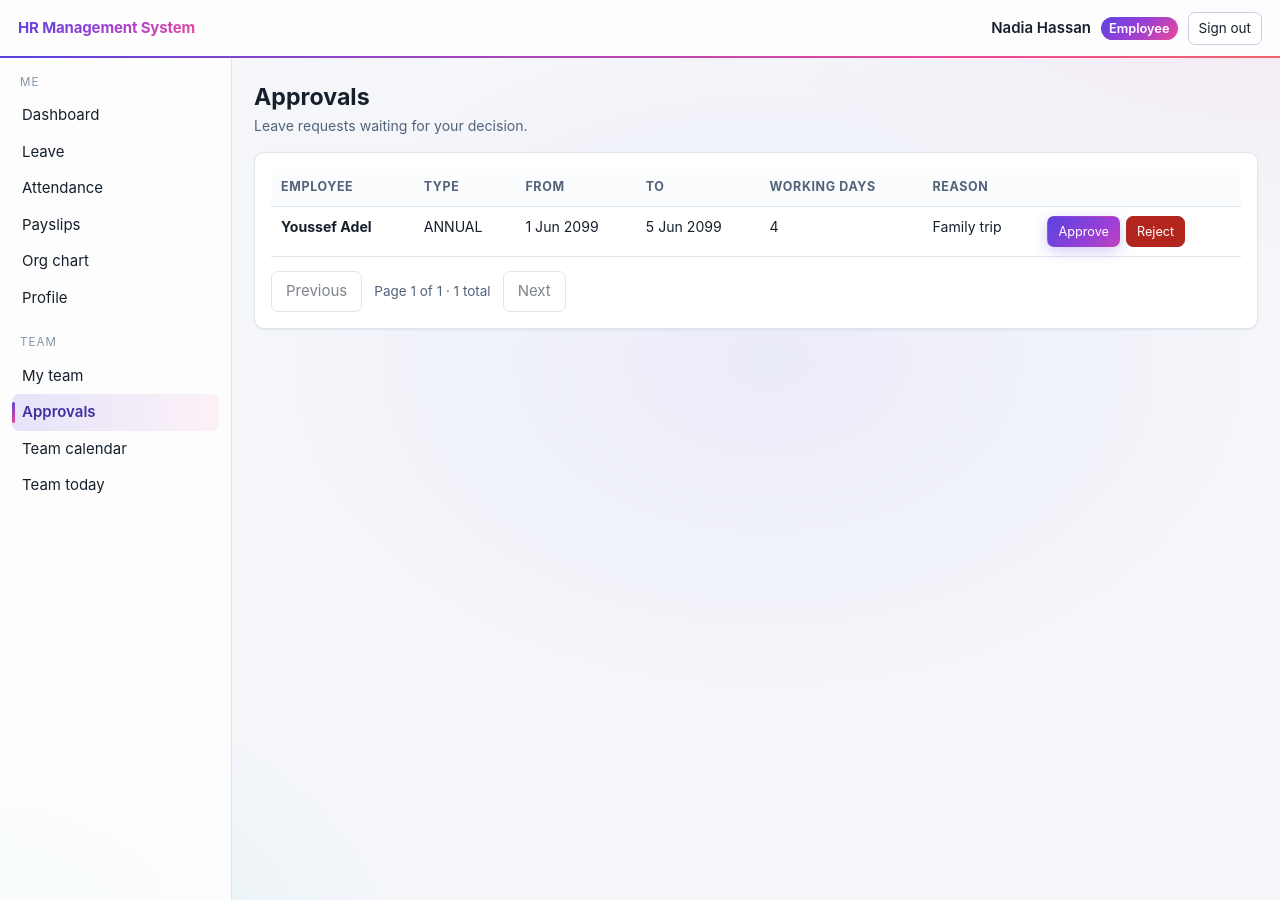
Test: approvals › refuses to reject without a note and posts nothing
Click the button with aria-label "reject youssef adel": point(1156, 231) [1126,216,1185,247]
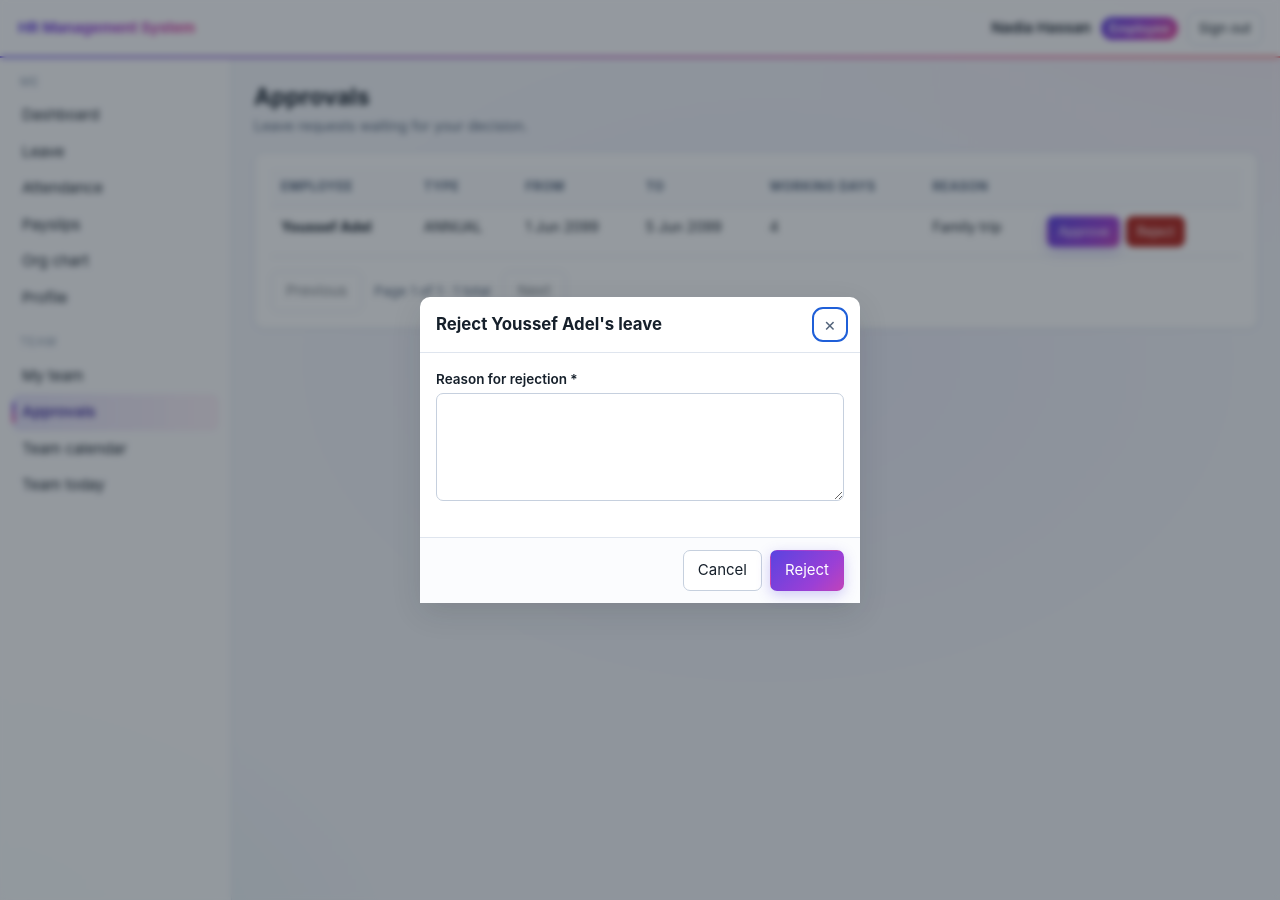
Click the button "Reject": point(807, 571) [770,550,844,591]
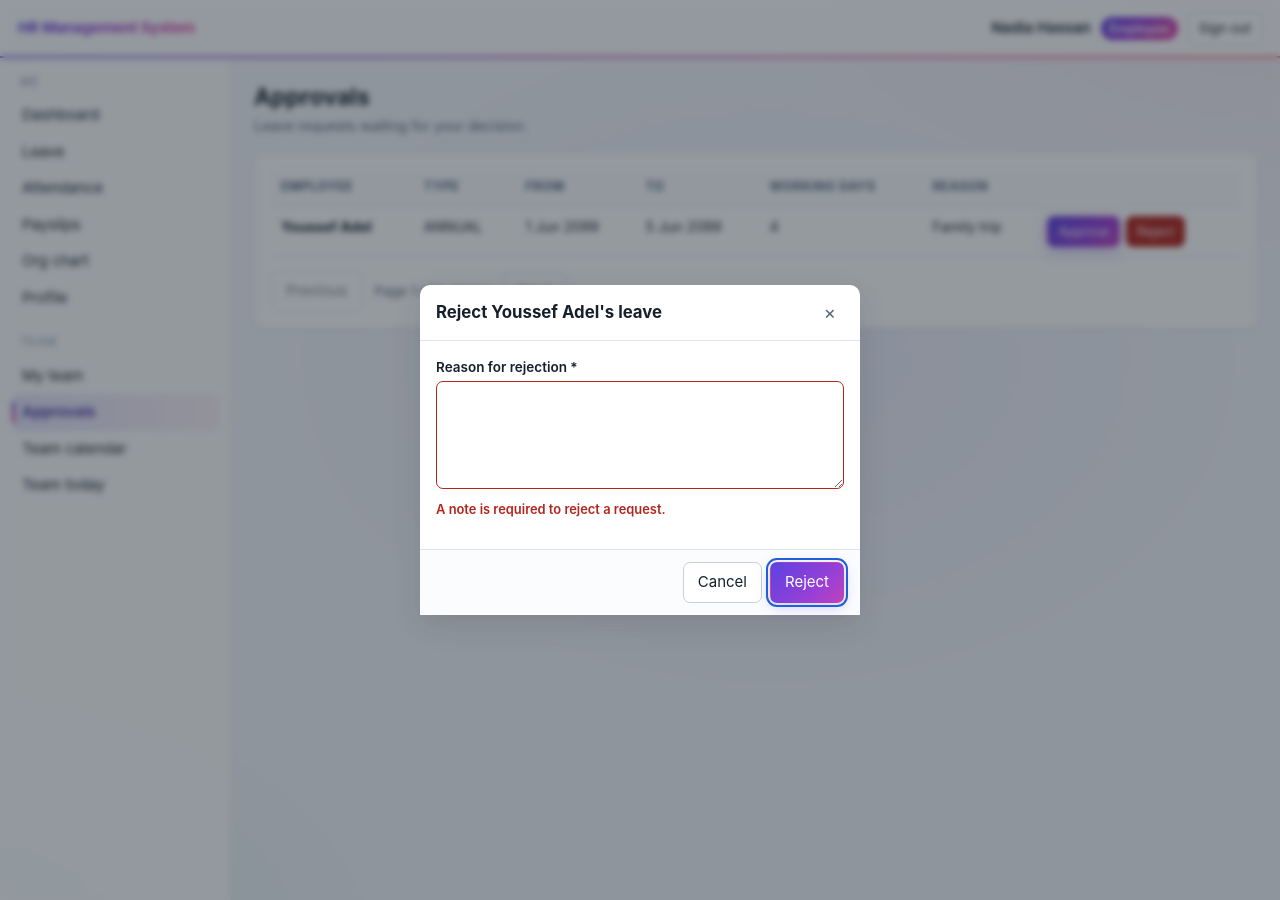
Check: the dialog is shown, box [420,286,860,614]
Check: the text "A note is required to reject a request." is shown, box [436,502,666,517]
